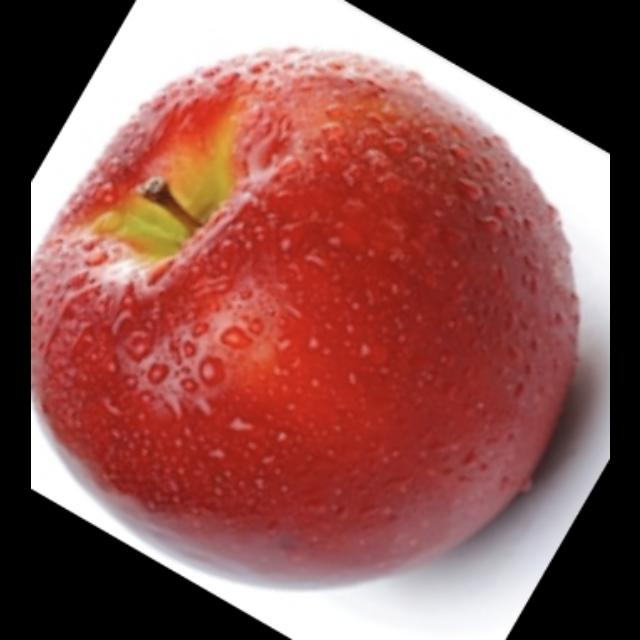Apel Segar: (34, 33, 592, 604)
